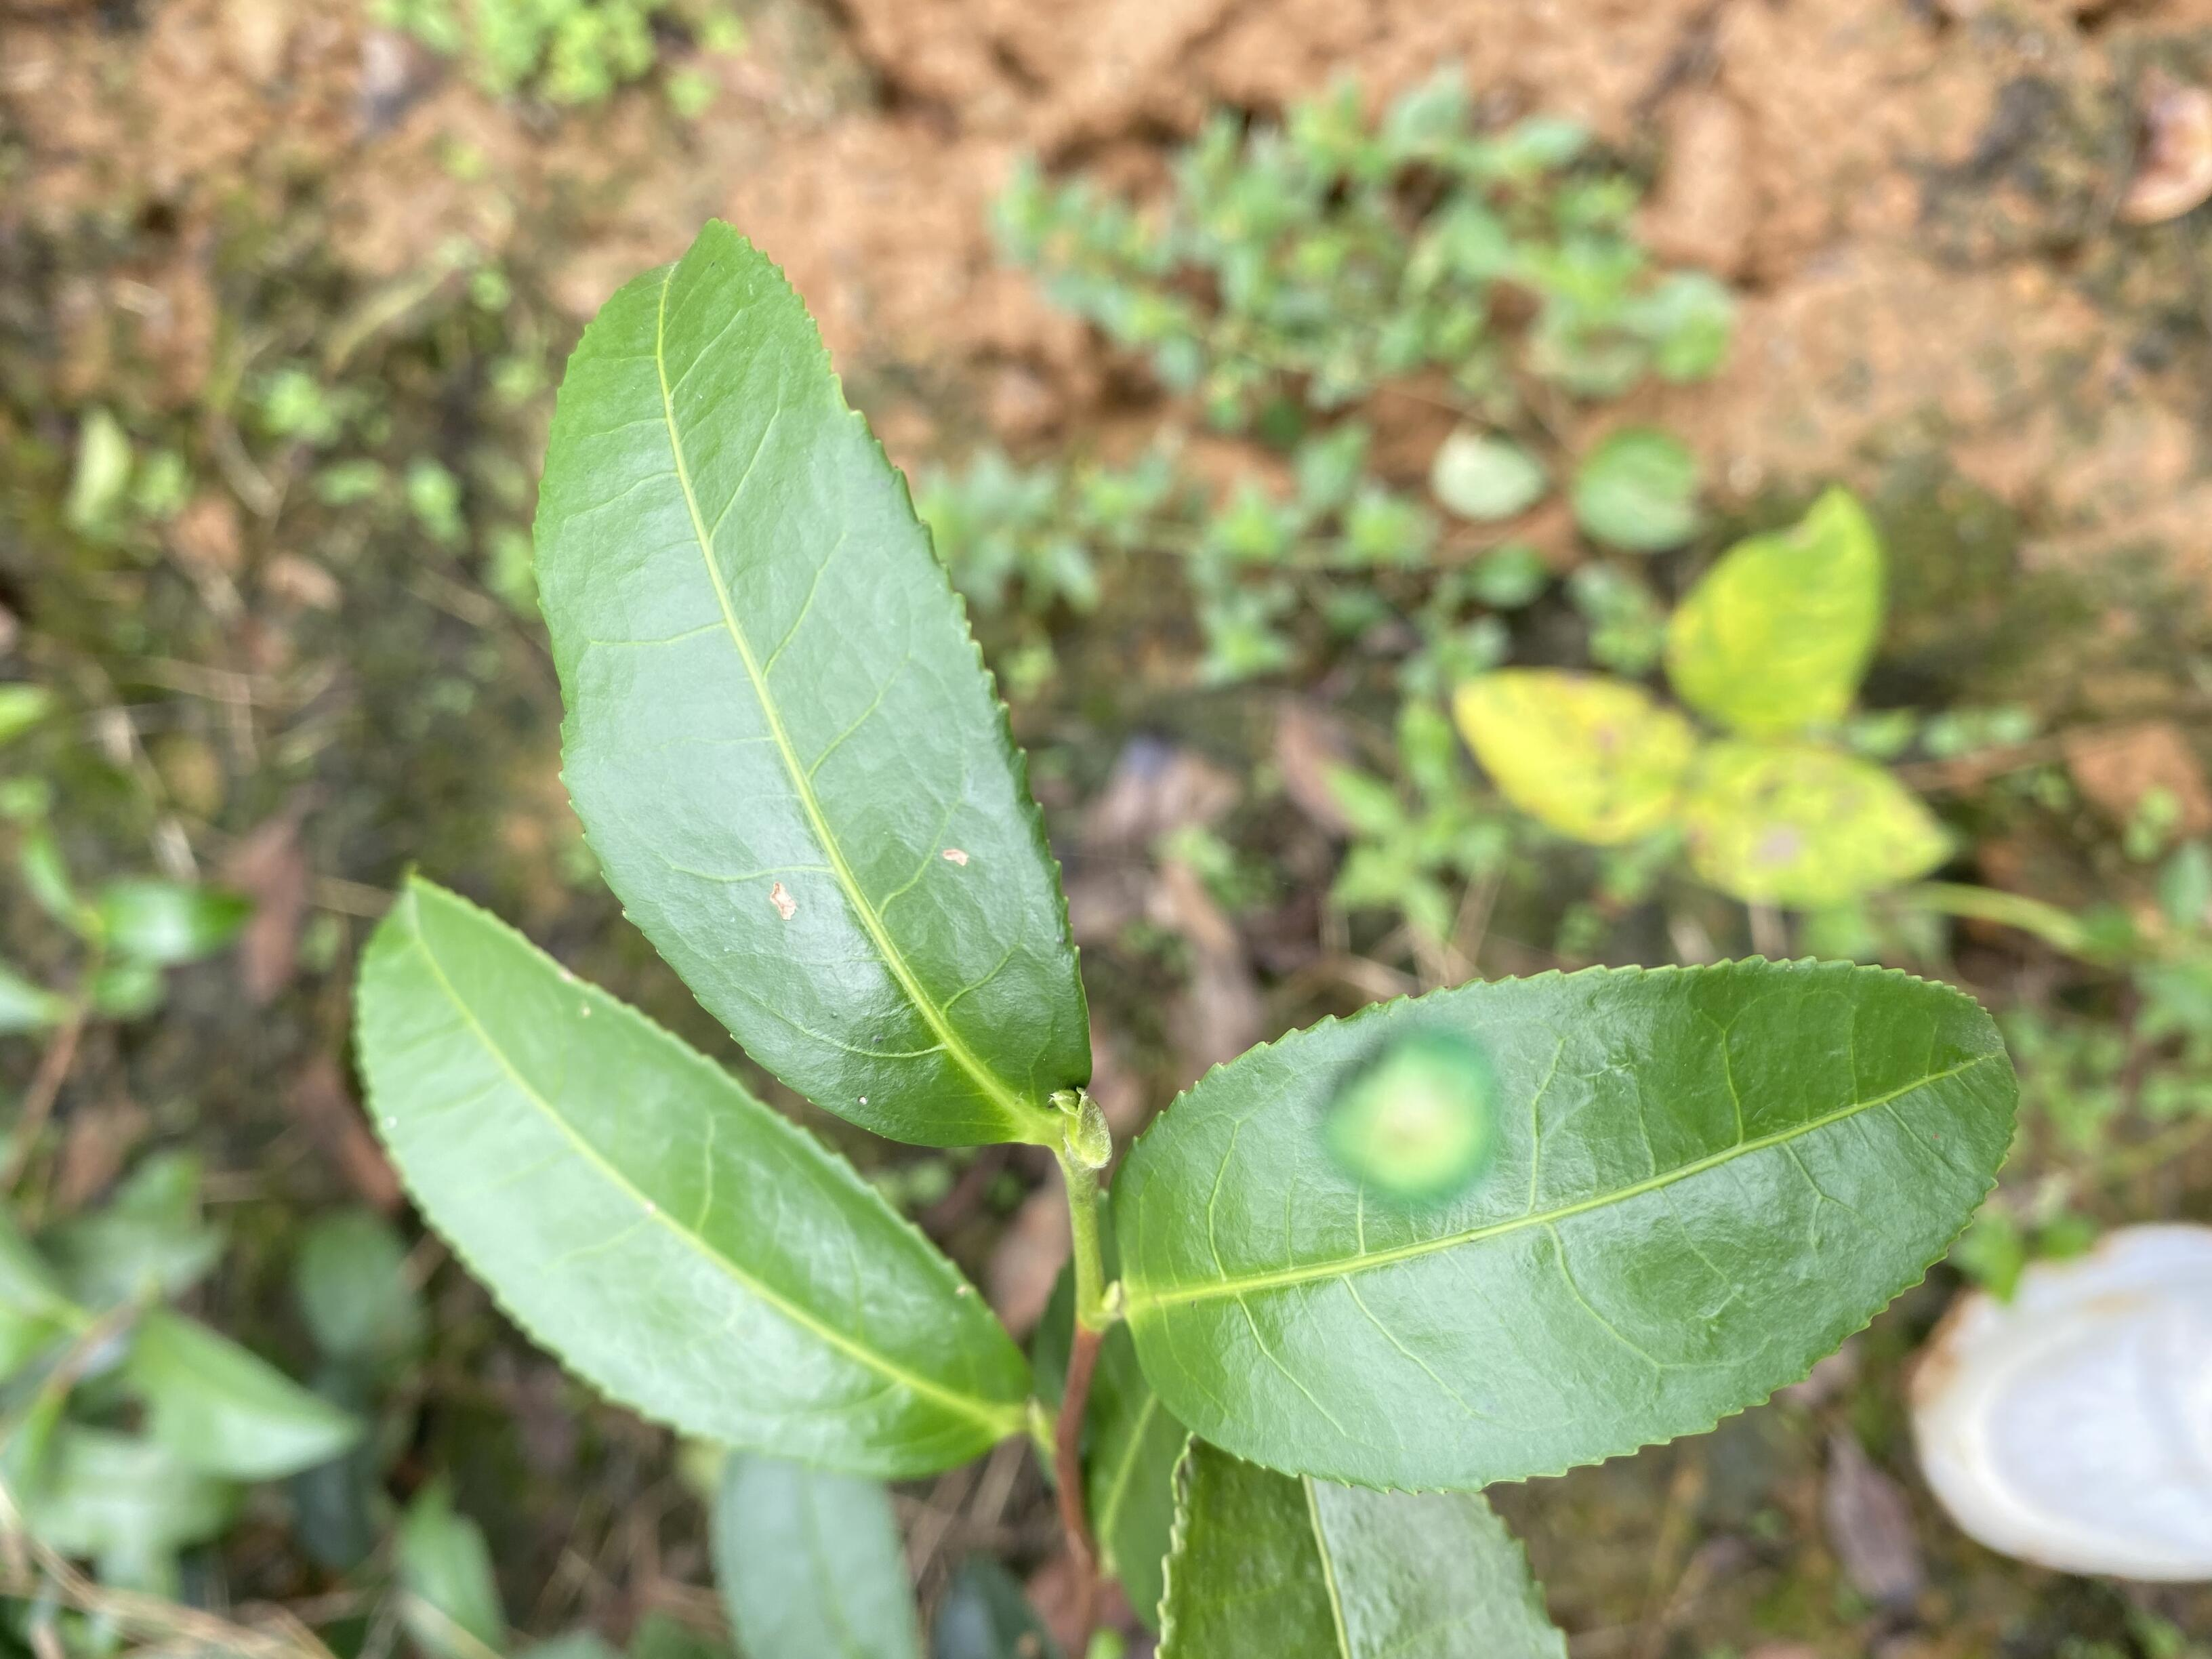chabing_low: (1115, 957, 2026, 1493)
tanju_low: (528, 216, 1090, 1147)
